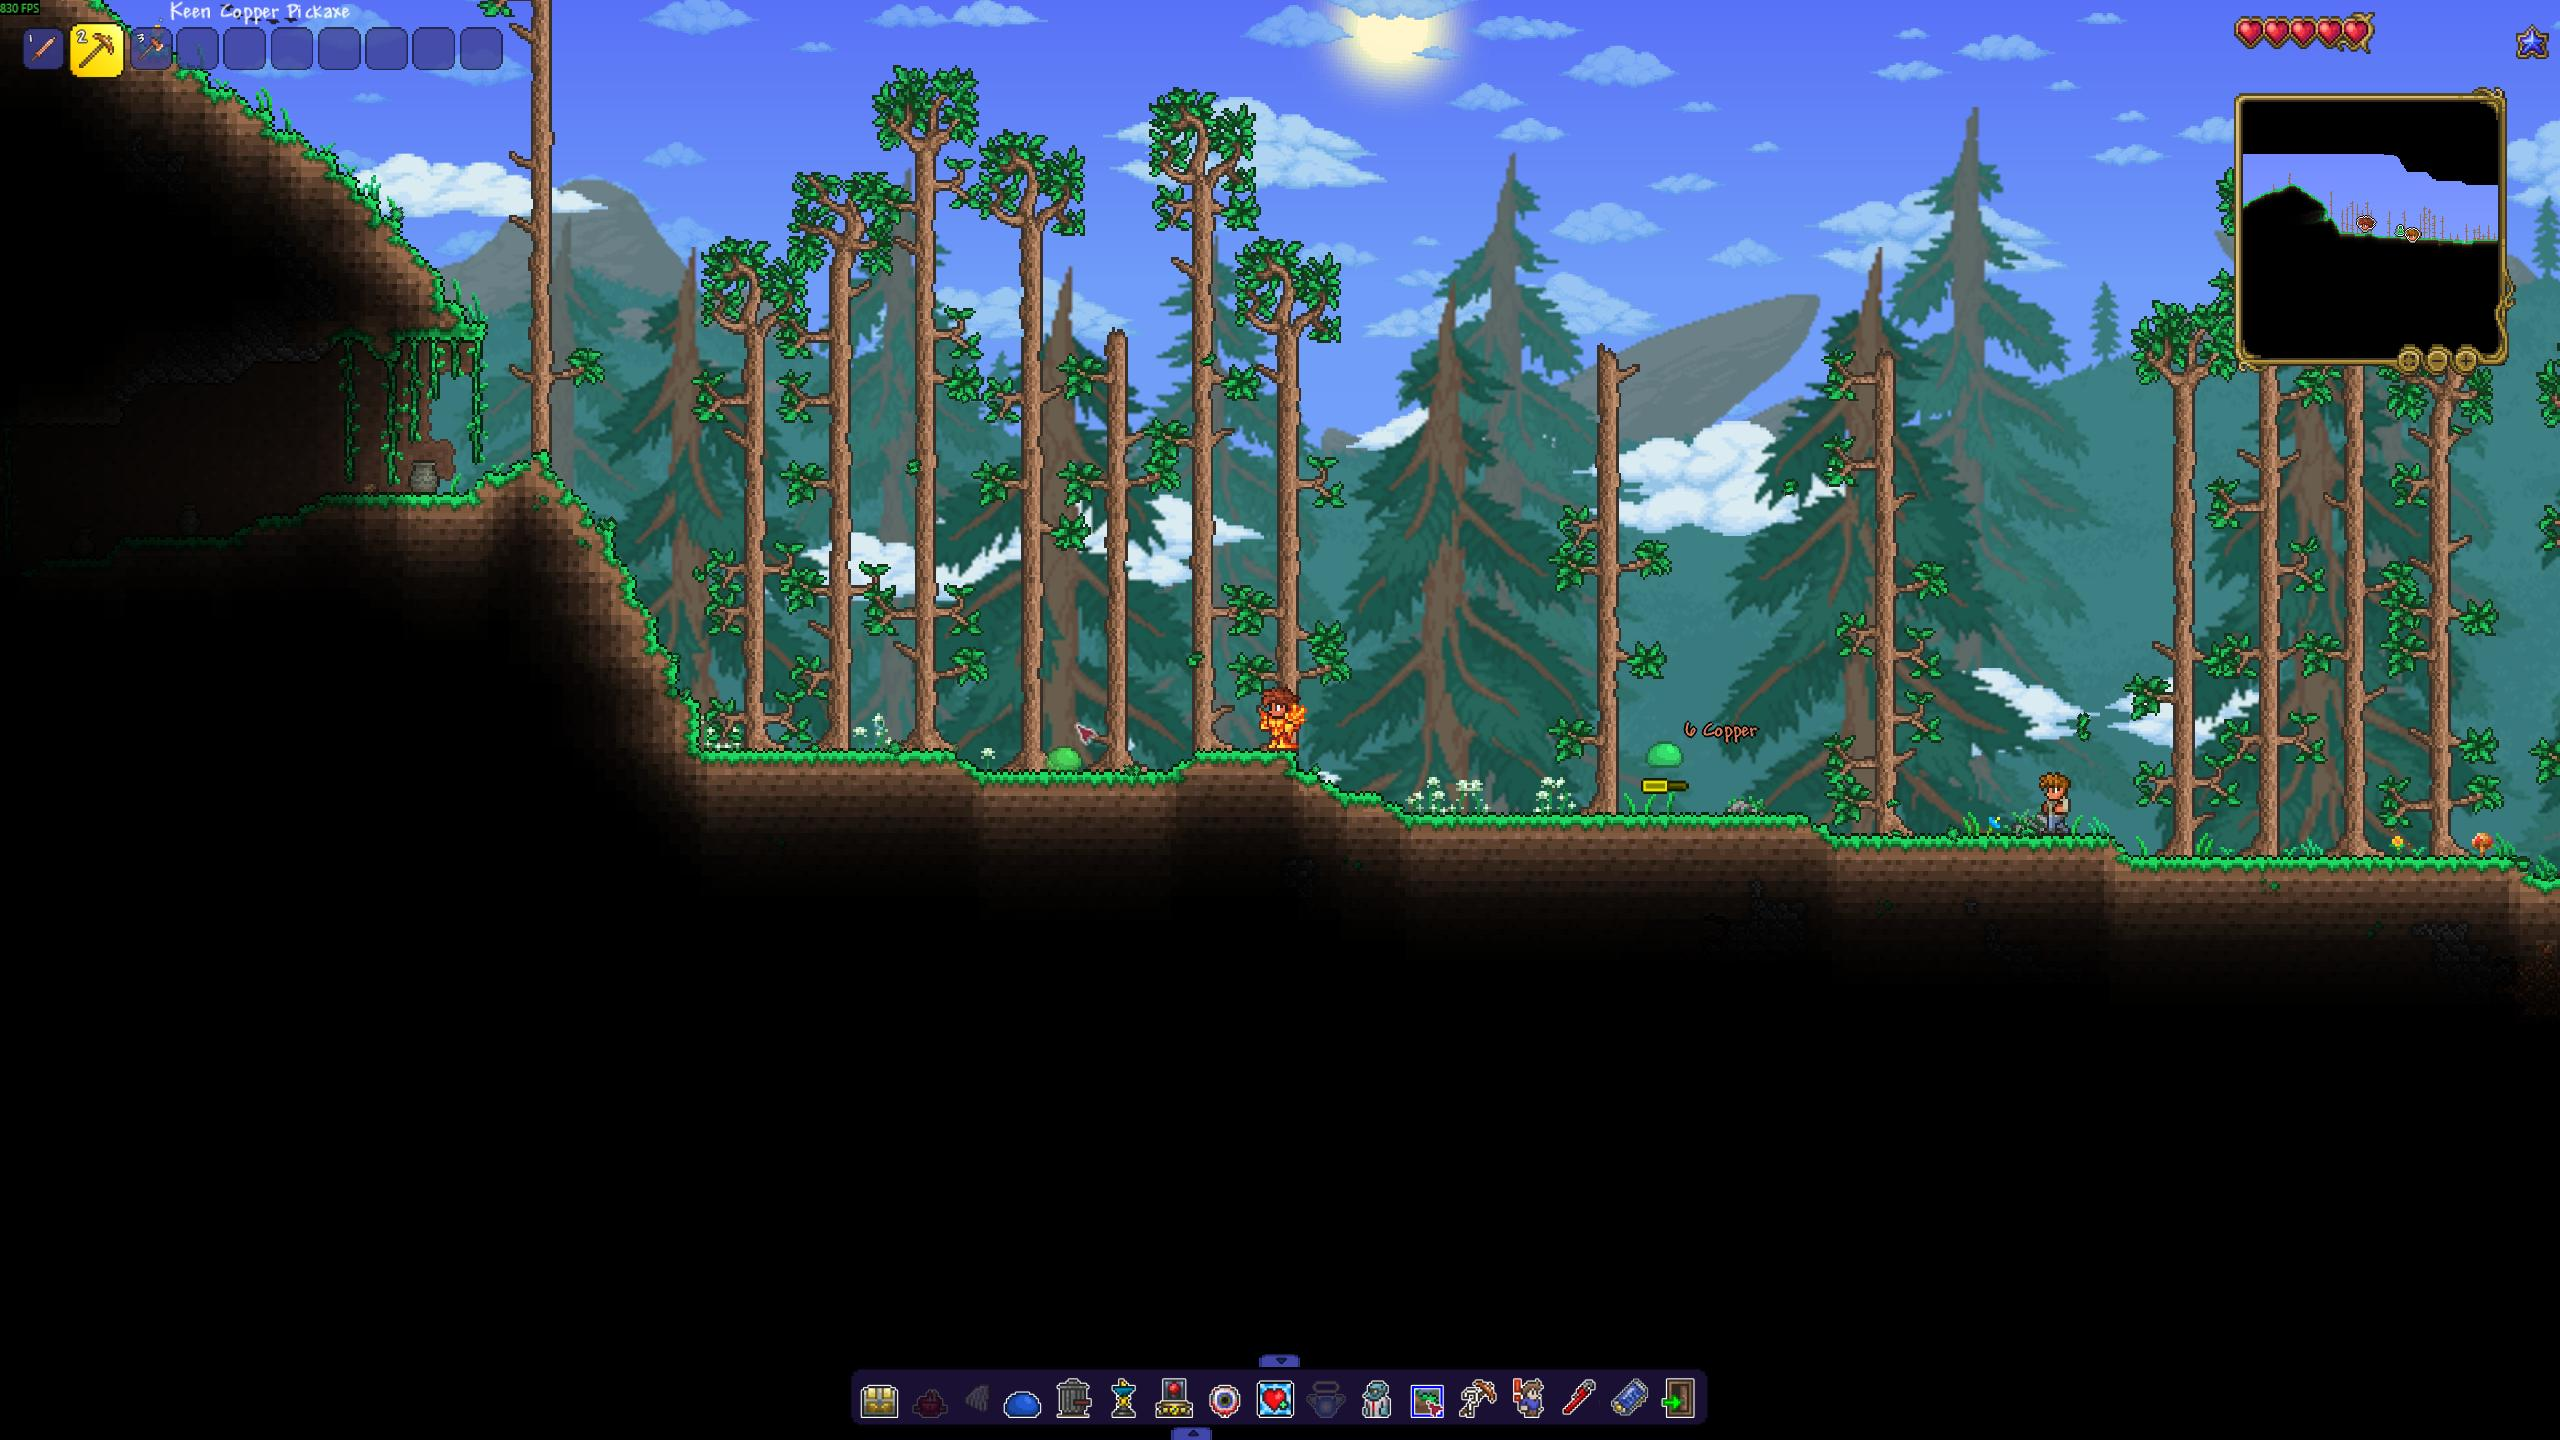Green Slime: (1644, 738, 1686, 772), (1043, 742, 1083, 775)
